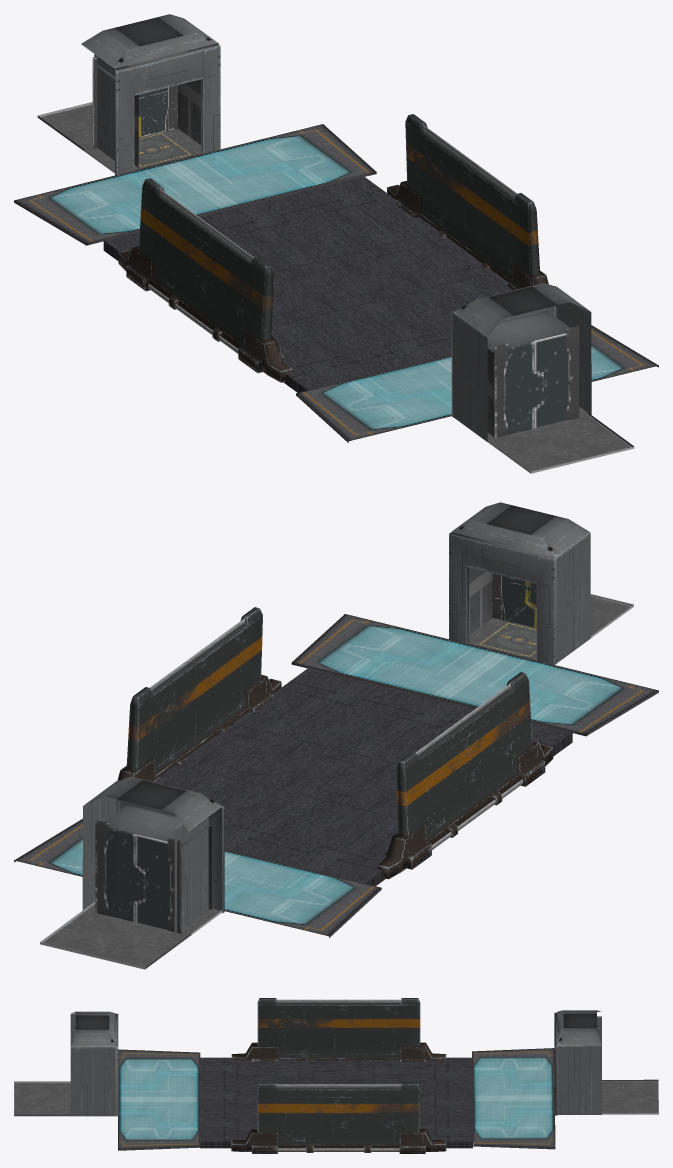
Rendered from AbeStage.fbx.
The picture shows the model from 3 angles, top to bottom: view 1: azimuth 30°, elevation 25°; view 2: azimuth 150°, elevation 25°; view 3: azimuth 270°, elevation 25°; orthographic projection. The views are drawn at different scales.
Parts seen in each view (by area): view 1: shipboard_low_1, Barricade_mdl, Barricade_mdl_2, shipboard_low, Docking_Floors_mdl__8_, Docking_Floors_mdl__3_, Docking_Floors_mdl__6_, spaceship_door_mdl, Docking_Floors_mdl__5_, spaceship_roomentar_mdl_1, Floor_floor_mdl_1, spaceship_room_ceiling_mdl (+9 smaller); view 2: shipboard_low, Barricade_mdl, Barricade_mdl_2, shipboard_low_1, Docking_Floors_mdl__4_, Docking_Floors_mdl__6_, Docking_Floors_mdl__3_, spaceship_door_mdl_1, spaceship_roomentar_mdl, Docking_Floors_mdl__7_, Floor_floor_mdl_2, spaceship_room_ceiling_mdl_1 (+10 smaller); view 3: Barricade_mdl_2, Barricade_mdl, shipboard_low, shipboard_low_1, Docking_Floors_mdl__5_, Docking_Floors_mdl__7_, spaceship_room_wall2_mdl, spaceship_room_wall1_mdl_1, Floor_floor_mdl_1, Floor_floor_mdl_2, Docking_Floors_mdl__4_, Docking_Floors_mdl__3_ (+6 smaller).
Part boxes in pixels (x1,y1,x2,y2): shipboard_low_1: [14, 124, 376, 245]; Barricade_mdl: [118, 178, 291, 382]; Barricade_mdl_2: [387, 114, 548, 290]; shipboard_low: [296, 325, 658, 442]; Docking_Floors_mdl__8_: [277, 176, 466, 272]; Docking_Floors_mdl__3_: [293, 273, 451, 368]; Docking_Floors_mdl__6_: [199, 197, 379, 294]; spaceship_door_mdl: [494, 326, 579, 438]; Docking_Floors_mdl__5_: [272, 295, 394, 392]; spaceship_roomentar_mdl_1: [115, 44, 220, 175]; Floor_floor_mdl_1: [487, 406, 634, 473]; spaceship_room_ceiling_mdl: [454, 283, 590, 352]; shipboard_low: [291, 614, 658, 736]; Barricade_mdl: [377, 672, 553, 879]; Barricade_mdl_2: [117, 607, 281, 782]; shipboard_low_1: [14, 818, 381, 937]; Docking_Floors_mdl__4_: [204, 668, 396, 765]; Docking_Floors_mdl__6_: [224, 765, 379, 862]; Docking_Floors_mdl__3_: [292, 689, 475, 786]; spaceship_door_mdl_1: [95, 820, 181, 933]; spaceship_roomentar_mdl: [449, 532, 556, 665]; Docking_Floors_mdl__7_: [277, 786, 397, 886]; Floor_floor_mdl_2: [40, 901, 222, 969]; spaceship_room_ceiling_mdl_1: [83, 776, 221, 846]; Barricade_mdl_2: [231, 1082, 446, 1153]; Barricade_mdl: [231, 998, 446, 1061]; shipboard_low: [118, 1049, 200, 1150]; shipboard_low_1: [472, 1048, 555, 1149]; Docking_Floors_mdl__5_: [200, 1057, 336, 1085]; Docking_Floors_mdl__7_: [336, 1057, 472, 1085]; spaceship_room_wall2_mdl: [70, 1047, 115, 1116]; spaceship_room_wall1_mdl_1: [557, 1045, 601, 1114]; Floor_floor_mdl_1: [14, 1081, 70, 1116]; Floor_floor_mdl_2: [602, 1079, 658, 1114]; Docking_Floors_mdl__4_: [200, 1113, 257, 1148]; Docking_Floors_mdl__3_: [200, 1085, 257, 1113].
Size of the model in its own units: 906 by 352 by 2438.
